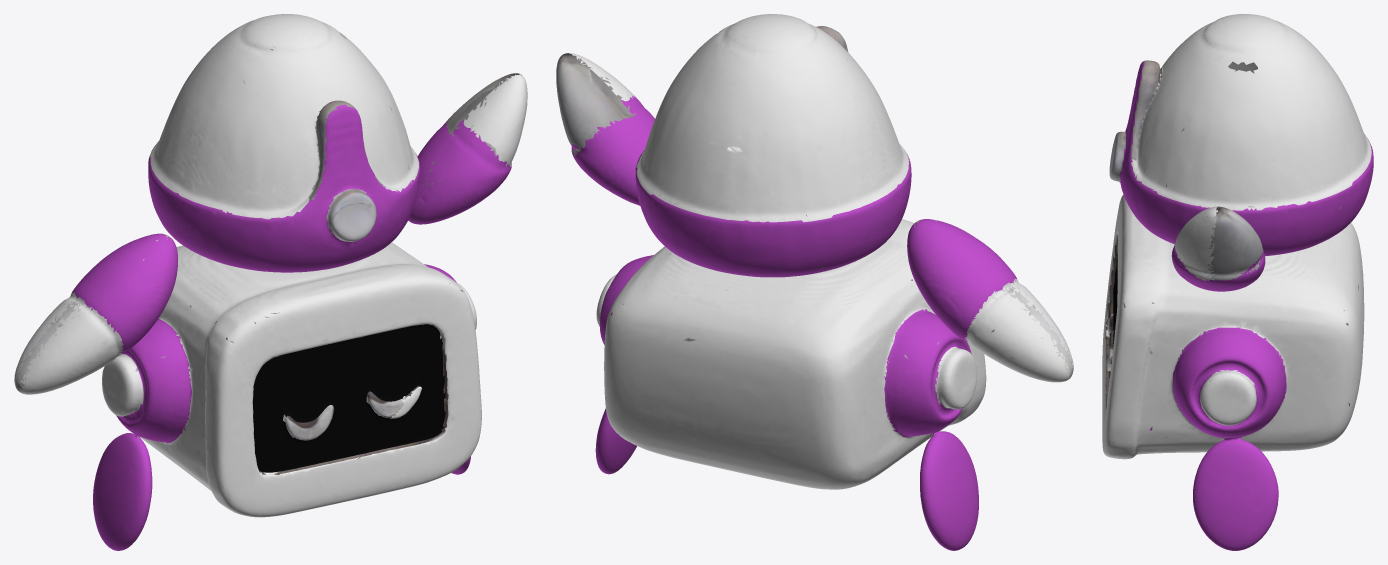
File: purplebot.glb
The picture shows the model from 3 angles, left to right: view 1: azimuth 30°, elevation 25°; view 2: azimuth 150°, elevation 25°; view 3: azimuth 270°, elevation 25°; orthographic projection. The views are drawn at different scales.
Parts seen in each view (by area): view 1: Mesh_0; view 2: Mesh_0; view 3: Mesh_0.
Boxes of the visible parts, x1,y1,x2,y2 form: Mesh_0: (14,14,527,550); Mesh_0: (556,14,1073,550); Mesh_0: (1102,14,1373,550).
Bounding box in the file's own units: 1.24 × 1.13 × 0.6146.
4 materials, 1 textured.
